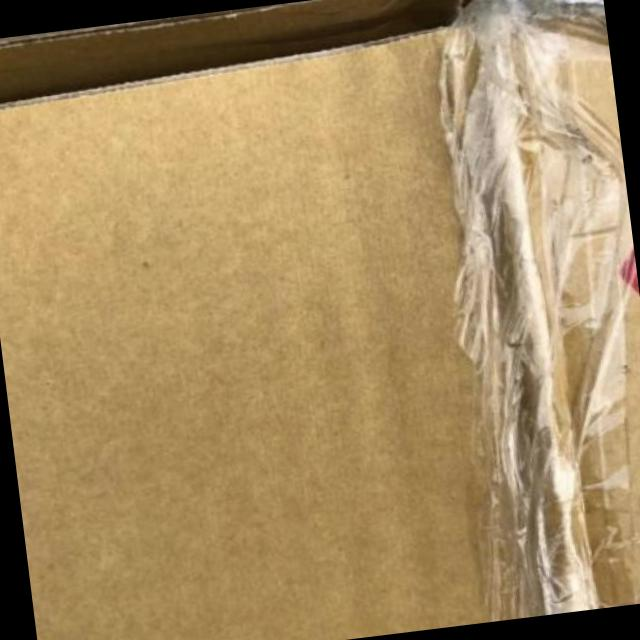cardboard paper: (0, 36, 488, 640)
